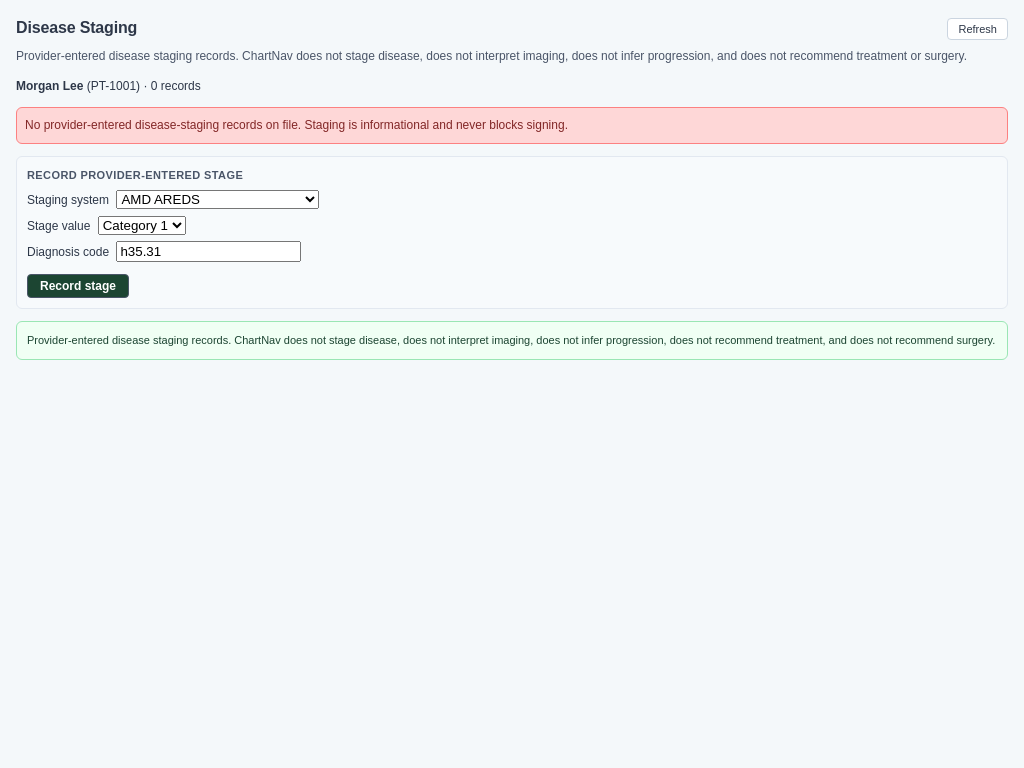
Test: DiseaseStagingPanel — form interaction › POSTs the staging payload and refetches on success
This screenshot has width=1024, height=768.
Expected: the text with test id "disease-staging-empty" is shown, [16,107,1008,144]
Click the button with test id "disease-staging-submit-btn": point(78, 286) [27,274,129,298]
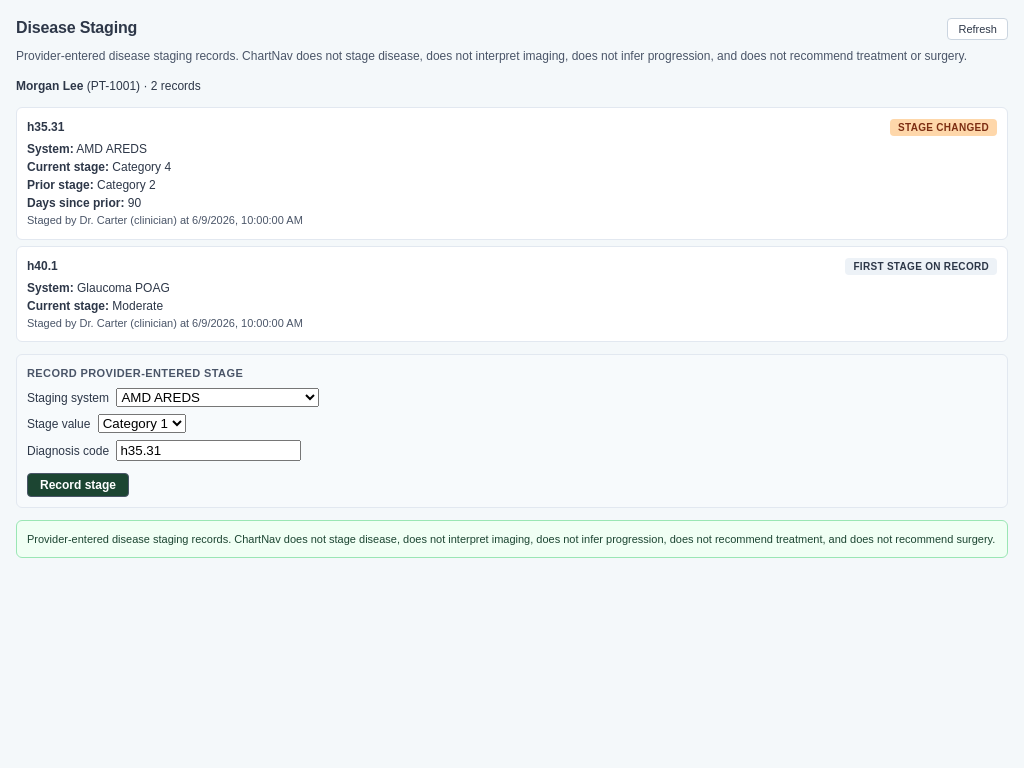
Expected: the list item with test id "disease-staging-latest-h35.31" is shown, [16,107,1008,240]
